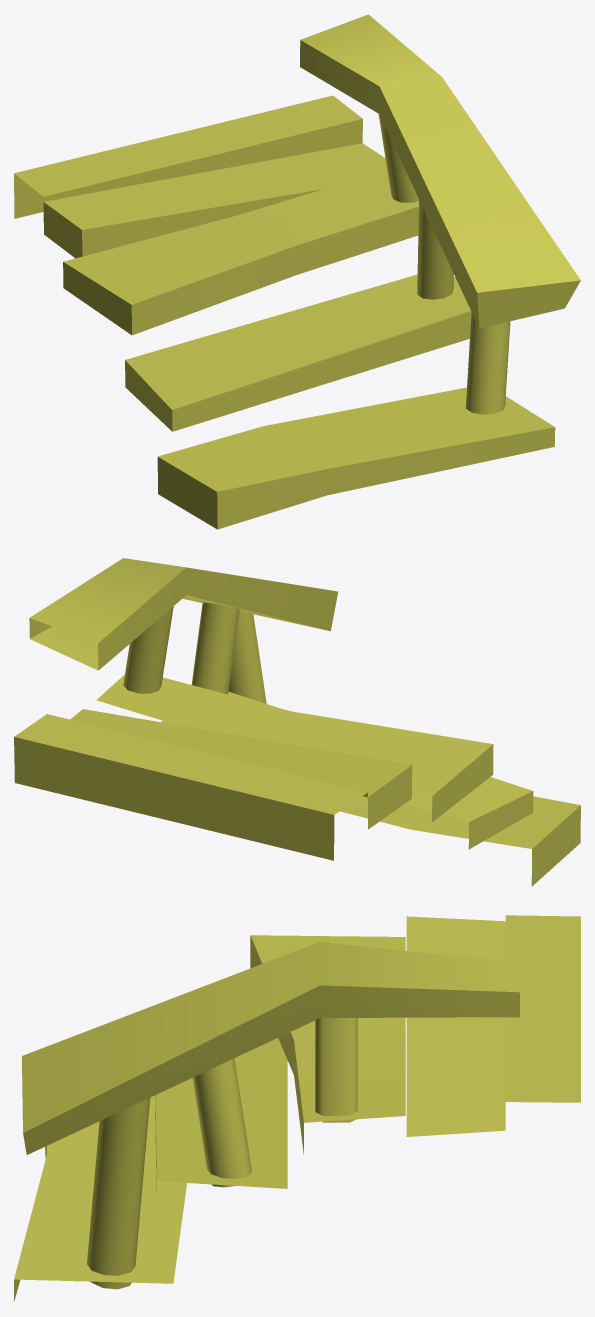
The model's file is stairs.fbx.
The picture shows the model from 3 angles, top to bottom: view 1: azimuth 30°, elevation 25°; view 2: azimuth 150°, elevation 25°; view 3: azimuth 270°, elevation 25°; orthographic projection. The views are drawn at different scales.
Parts seen in each view (by area): view 1: stairs1; view 2: stairs1; view 3: stairs1.
Boxes of the visible parts, x1,y1,x2,y2 form: stairs1: (14, 14, 580, 529); stairs1: (14, 558, 580, 886); stairs1: (14, 915, 580, 1301).
Size of the model in its own units: 171 by 133 by 194.
